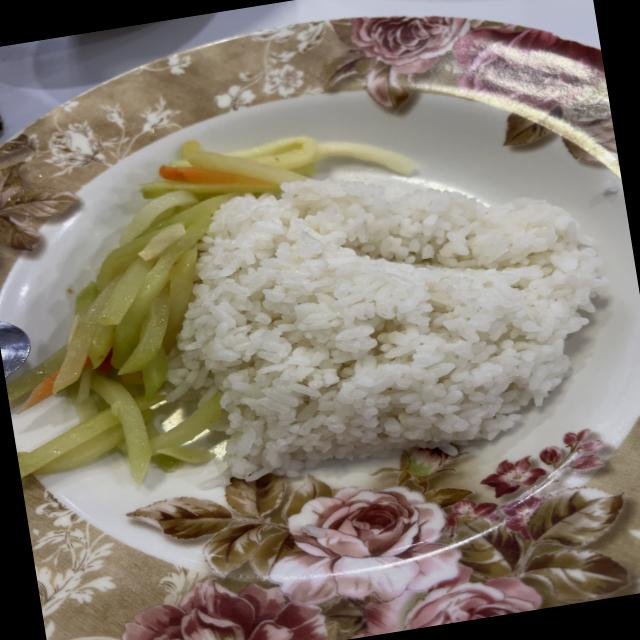com: (180, 179, 604, 478)
rau: (17, 137, 414, 483)
